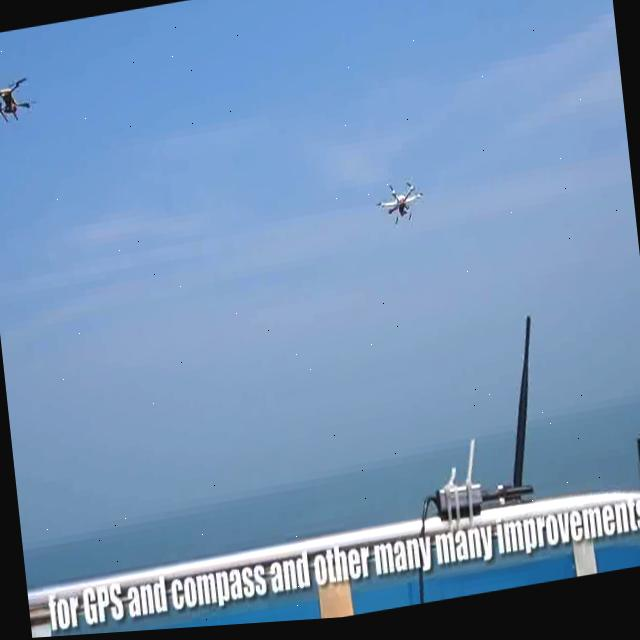drone: (0, 35, 49, 152)
